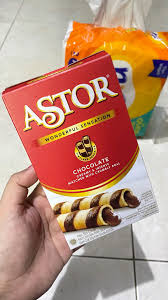Astor Chocolate (40g): (2, 86, 112, 264)
